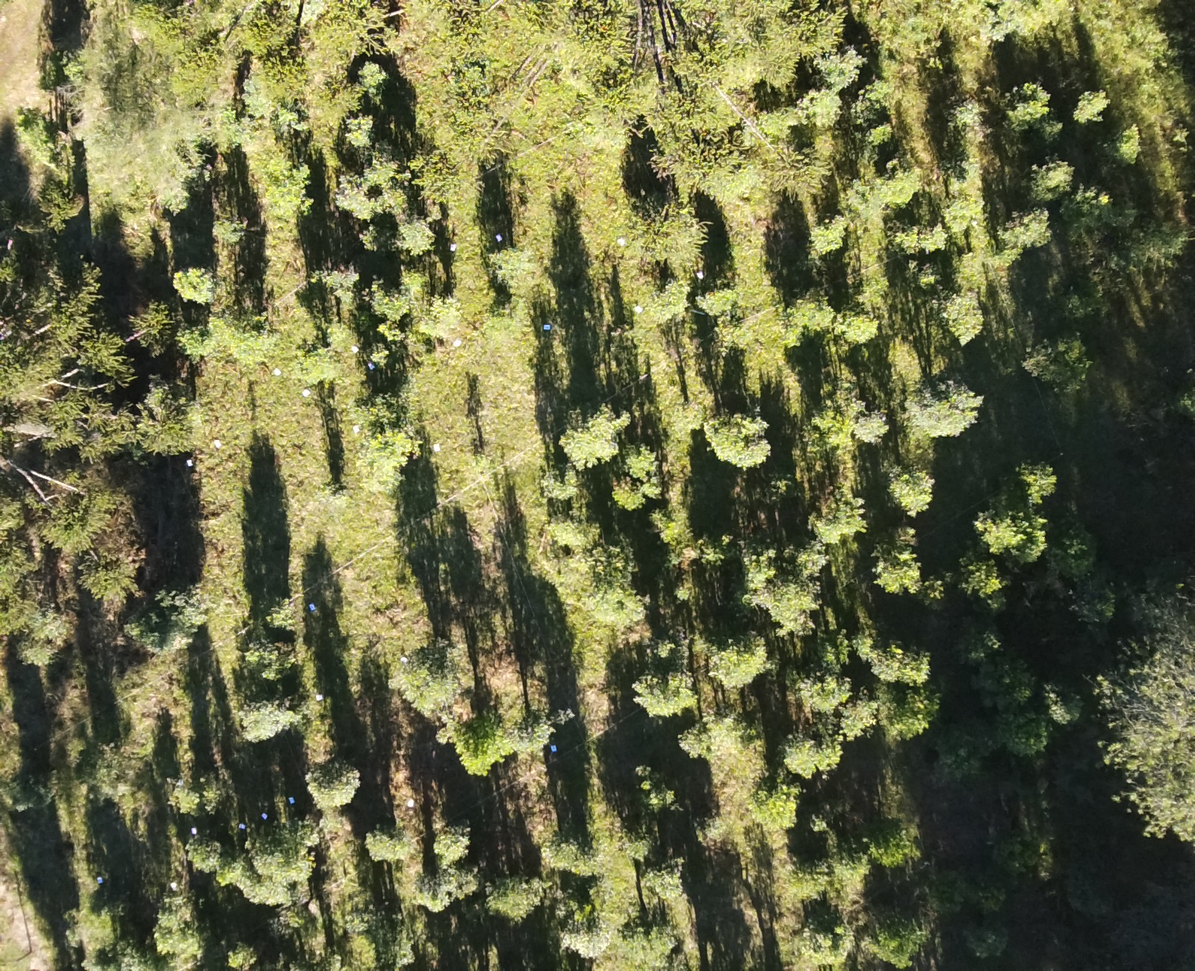erva: (441, 704, 507, 779), (710, 402, 779, 471), (350, 429, 419, 495), (229, 691, 307, 746), (913, 371, 981, 434), (236, 636, 314, 690), (668, 713, 742, 768), (1006, 79, 1064, 146), (392, 651, 456, 710), (624, 666, 691, 721), (359, 824, 429, 875), (872, 532, 928, 595), (711, 630, 765, 693), (482, 243, 551, 291), (239, 324, 304, 373), (934, 284, 992, 338), (589, 578, 657, 624), (308, 757, 368, 808), (479, 879, 539, 930), (798, 89, 860, 138), (826, 699, 892, 745), (778, 288, 834, 341), (639, 276, 698, 326), (169, 264, 229, 313), (881, 465, 941, 513), (509, 701, 559, 757), (332, 167, 382, 222), (1065, 84, 1114, 139), (377, 217, 432, 265), (419, 298, 468, 350), (774, 731, 822, 783), (566, 916, 618, 964), (807, 497, 857, 545), (800, 215, 849, 263), (791, 666, 842, 712), (764, 577, 810, 628), (333, 388, 381, 435), (299, 347, 348, 392), (172, 778, 223, 820), (1109, 118, 1158, 161), (692, 812, 742, 854), (665, 394, 716, 435), (885, 155, 922, 211), (311, 472, 356, 518), (200, 305, 246, 350), (831, 306, 885, 344), (1000, 202, 1046, 246), (1031, 159, 1078, 202), (635, 919, 679, 964), (253, 834, 305, 872), (234, 879, 291, 913), (364, 276, 409, 319), (183, 835, 232, 873), (620, 828, 663, 871), (438, 822, 478, 868), (559, 430, 608, 467), (848, 172, 887, 218), (536, 517, 588, 551), (327, 266, 367, 308), (366, 148, 410, 186), (650, 511, 696, 547), (255, 596, 312, 625), (642, 778, 685, 816), (538, 469, 580, 507), (533, 831, 570, 874), (825, 49, 868, 85), (215, 854, 258, 889), (904, 647, 944, 684), (692, 291, 738, 323), (608, 476, 646, 514), (177, 322, 212, 362), (716, 317, 755, 352), (907, 223, 951, 254), (317, 322, 361, 353), (856, 406, 893, 441), (587, 403, 627, 432), (818, 744, 847, 784), (629, 441, 664, 473), (350, 223, 382, 258), (294, 811, 323, 840), (645, 480, 678, 501)
